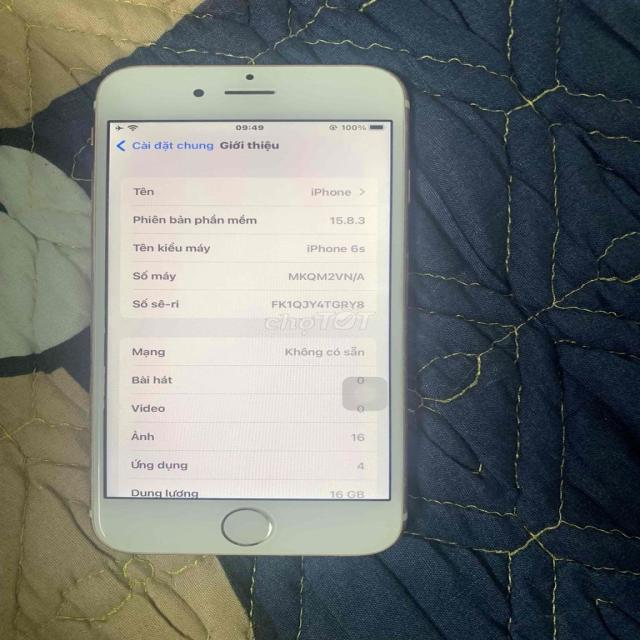gen_6: (91, 65, 408, 554)
